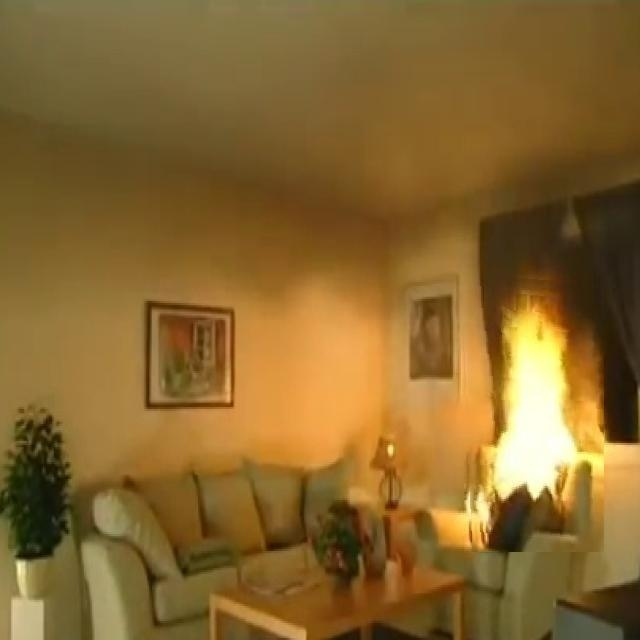fire: (493, 299, 589, 507)
